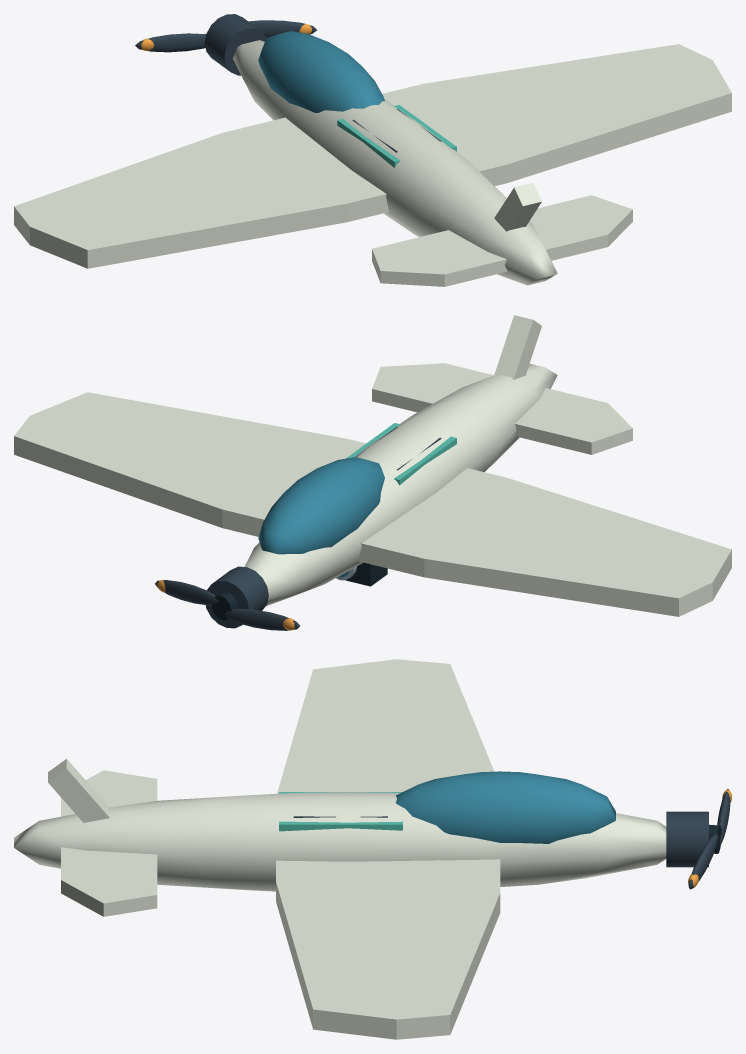
File: class-fixed-wing.glb
3 renders of one model, top to bottom at view 1: azimuth 30°, elevation 25°; view 2: azimuth 150°, elevation 25°; view 3: azimuth 270°, elevation 25°, orthographic. The views are drawn at different scales.
Visible parts, largest first — view 1: part-wing-2, part-frame-1, part-motor-3, part-propeller-4, part-battery-5; view 2: part-wing-2, part-frame-1, part-propeller-4, part-motor-3, part-battery-5, part-payload-7; view 3: part-wing-2, part-frame-1, part-motor-3, part-propeller-4, part-battery-5.
Boxes of the visible parts, x1,y1,x2,y2 form: part-wing-2: (14,44,731,286); part-frame-1: (233,31,557,285); part-motor-3: (204,14,266,75); part-propeller-4: (135,20,316,52); part-battery-5: (337,105,456,167); part-wing-2: (14,315,731,616); part-frame-1: (244,363,557,605); part-propeller-4: (155,580,299,630); part-motor-3: (205,566,268,628); part-battery-5: (346,423,456,485); part-payload-7: (336,562,387,586); part-wing-2: (48,659,500,1039); part-frame-1: (14,771,666,891); part-motor-3: (666,811,708,867); part-propeller-4: (688,789,731,889); part-battery-5: (279,792,402,831).
Size of the model in its own units: 4.6 by 0.8385 by 3.87.
